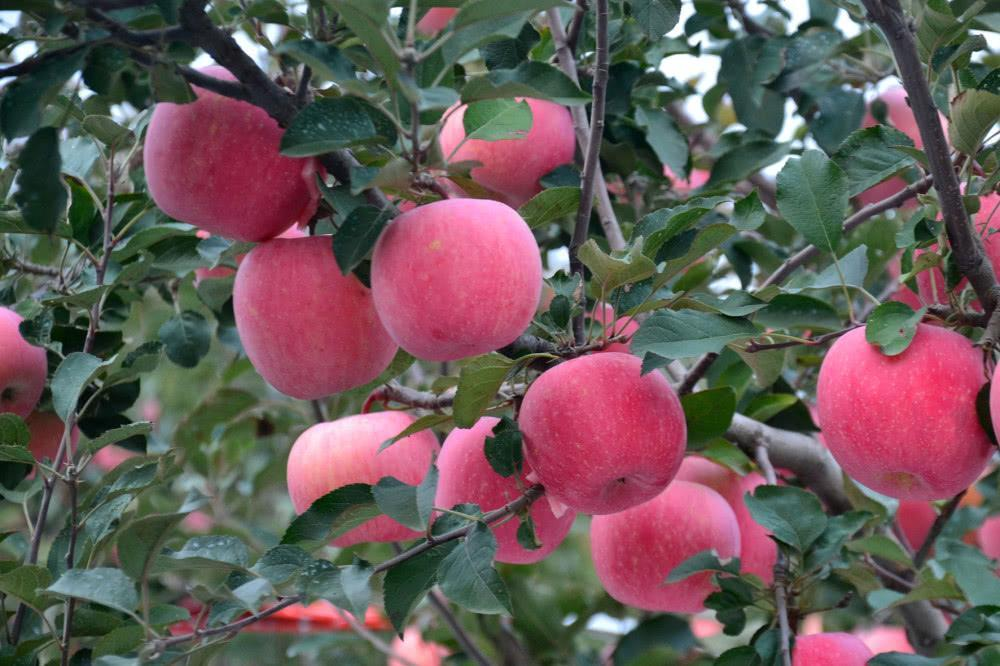apple: (817, 314, 997, 500), (143, 64, 323, 241), (372, 196, 542, 363), (517, 351, 690, 514), (231, 233, 393, 399), (287, 407, 438, 550), (437, 411, 574, 563), (589, 480, 741, 615), (425, 89, 583, 211), (1, 306, 48, 421)
